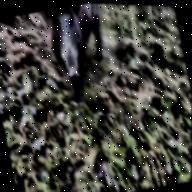boar: (36, 1, 130, 100)
